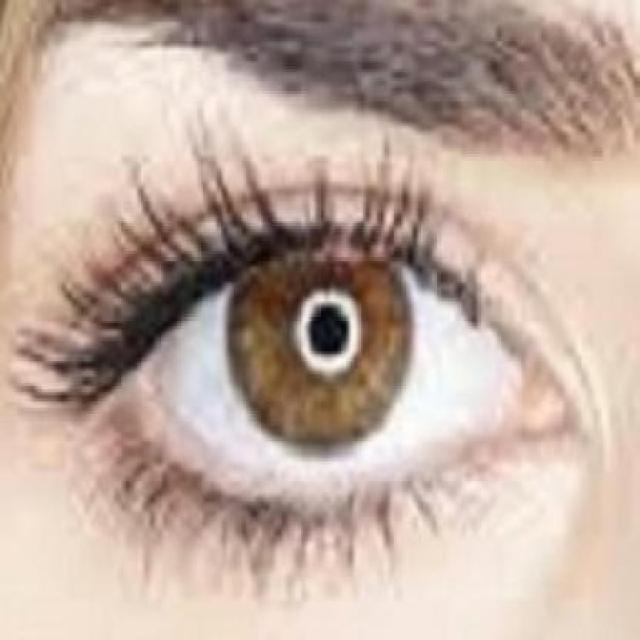awake: (84, 192, 568, 559)
